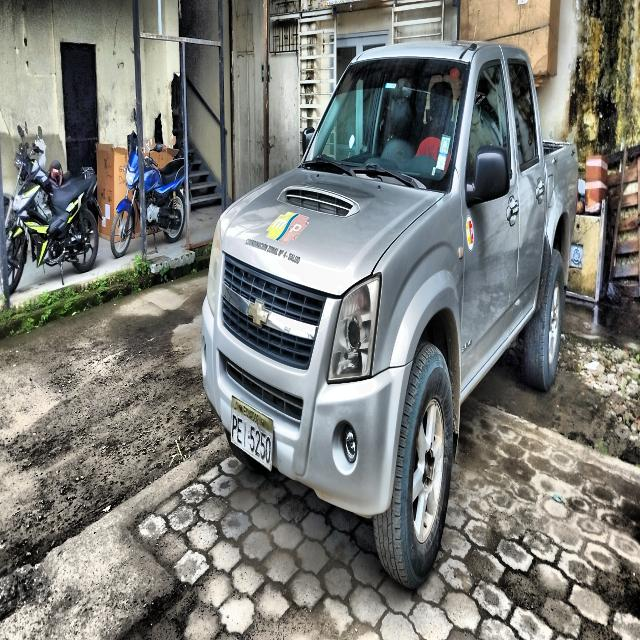license_plate: (229, 391, 275, 479)
